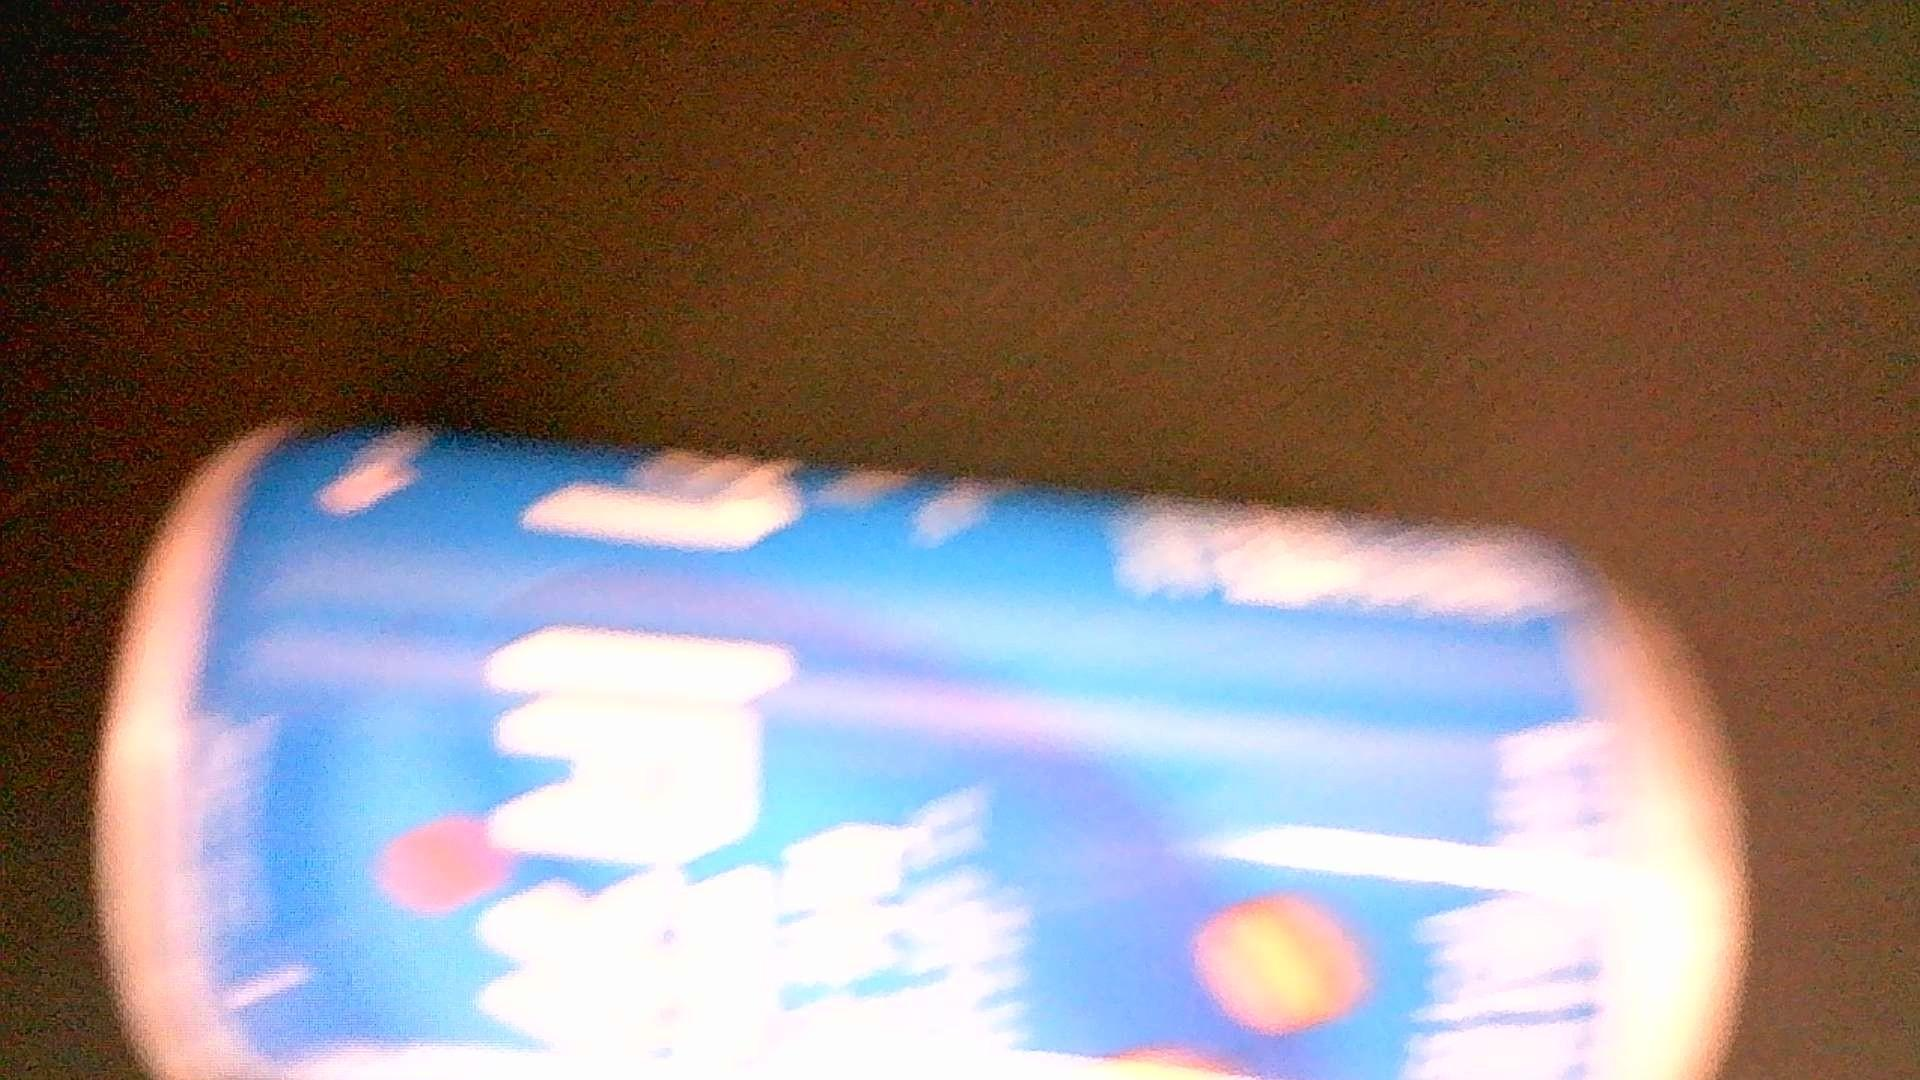letsbe: (91, 419, 1750, 1080)
